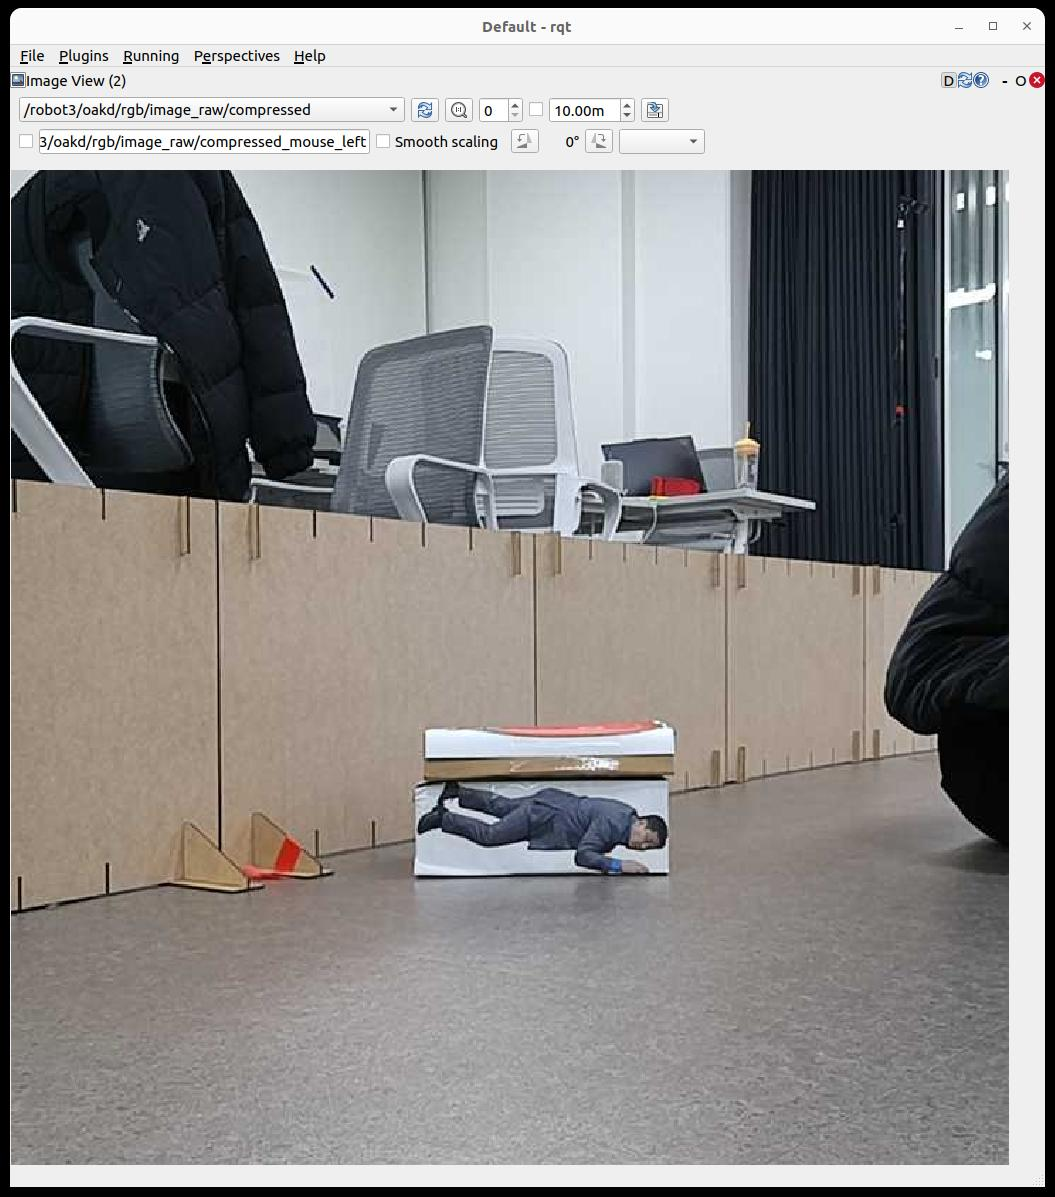Patient: (419, 783, 666, 874), (0, 254, 9, 302), (0, 221, 9, 248), (12, 172, 24, 181)
